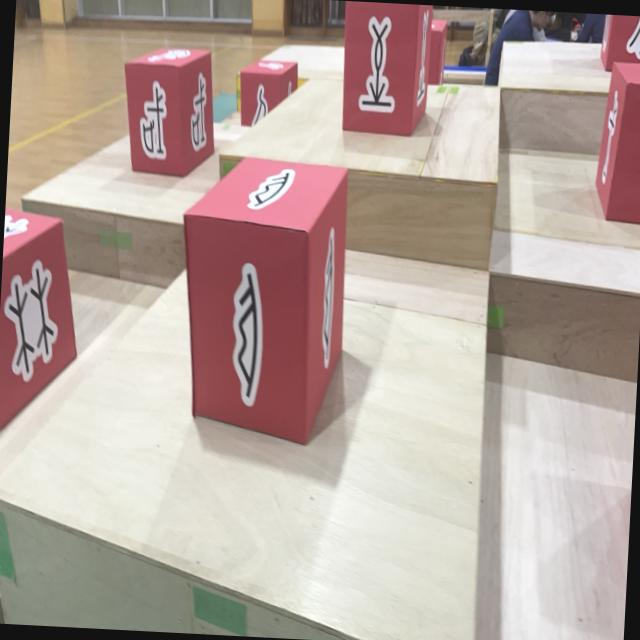10: (251, 82, 269, 128)
11: (228, 261, 268, 408), (320, 228, 338, 370), (248, 165, 295, 212)
3: (626, 16, 640, 61)
5: (138, 82, 170, 161), (190, 73, 210, 152)
6: (0, 258, 62, 383), (4, 214, 28, 240)
7: (358, 15, 401, 114), (417, 10, 430, 109)
9: (600, 90, 620, 186)
fighter: (171, 152, 352, 449), (0, 206, 84, 436), (120, 43, 220, 178), (338, 1, 432, 137), (594, 58, 640, 223), (238, 58, 298, 128), (599, 14, 640, 72), (428, 18, 447, 86)
